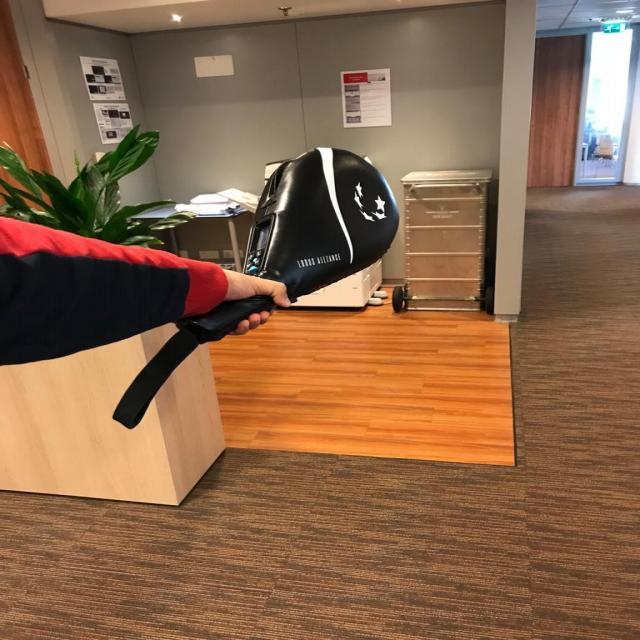paddle: (239, 140, 404, 302)
